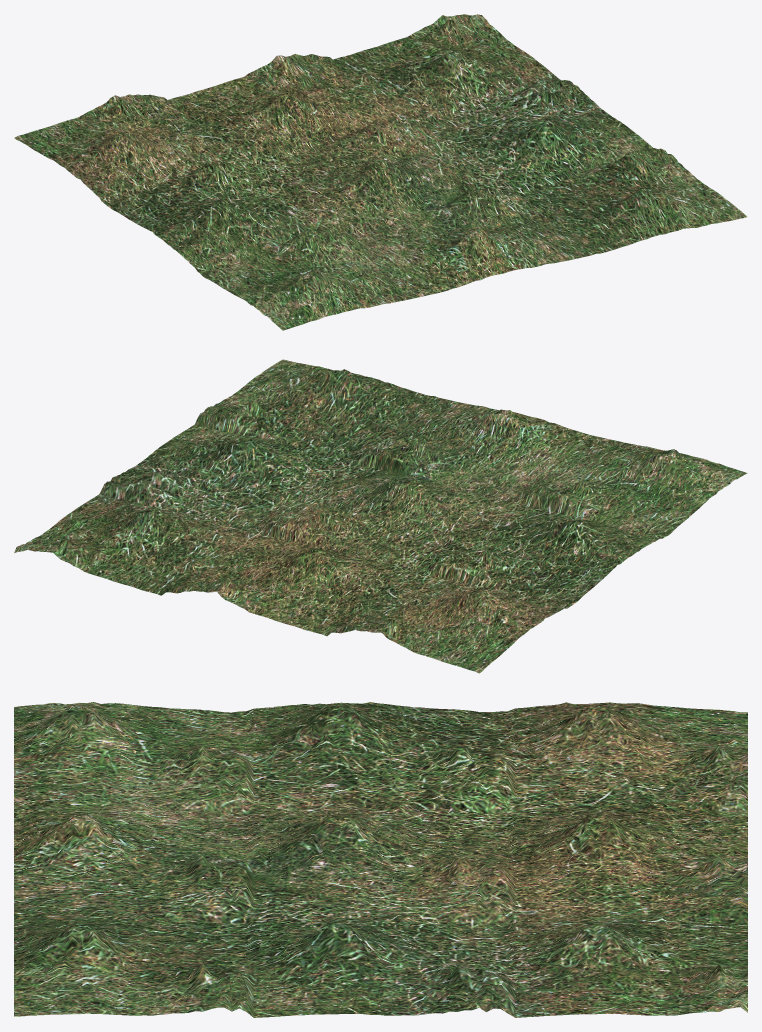
File: mapobj.obj
The picture shows the model from 3 angles, top to bottom: view 1: azimuth 30°, elevation 25°; view 2: azimuth 150°, elevation 25°; view 3: azimuth 270°, elevation 25°; orthographic projection. The views are drawn at different scales.
Visible parts, largest first — view 1: mt-ruapehu-and-mt-ngauruhoe; view 2: mt-ruapehu-and-mt-ngauruhoe; view 3: mt-ruapehu-and-mt-ngauruhoe.
Boxes of the visible parts, box(x1,y1,x2,y2) form: mt-ruapehu-and-mt-ngauruhoe: box(14, 14, 747, 330); mt-ruapehu-and-mt-ngauruhoe: box(14, 359, 747, 673); mt-ruapehu-and-mt-ngauruhoe: box(14, 702, 747, 1017).
Size of the model in its own units: 742 by 47.5 by 742.
1 material, 1 textured.
